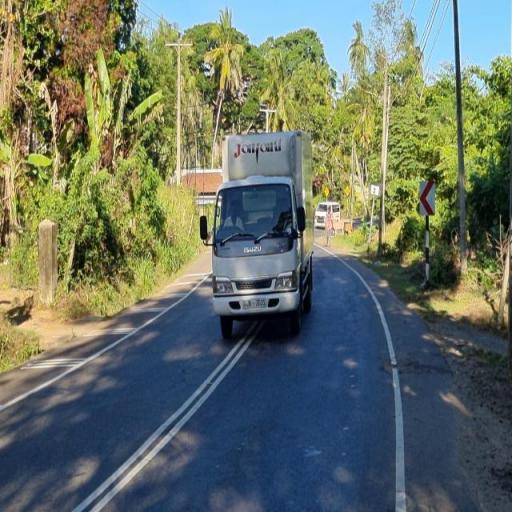double_white_line: (70, 324, 264, 512)
